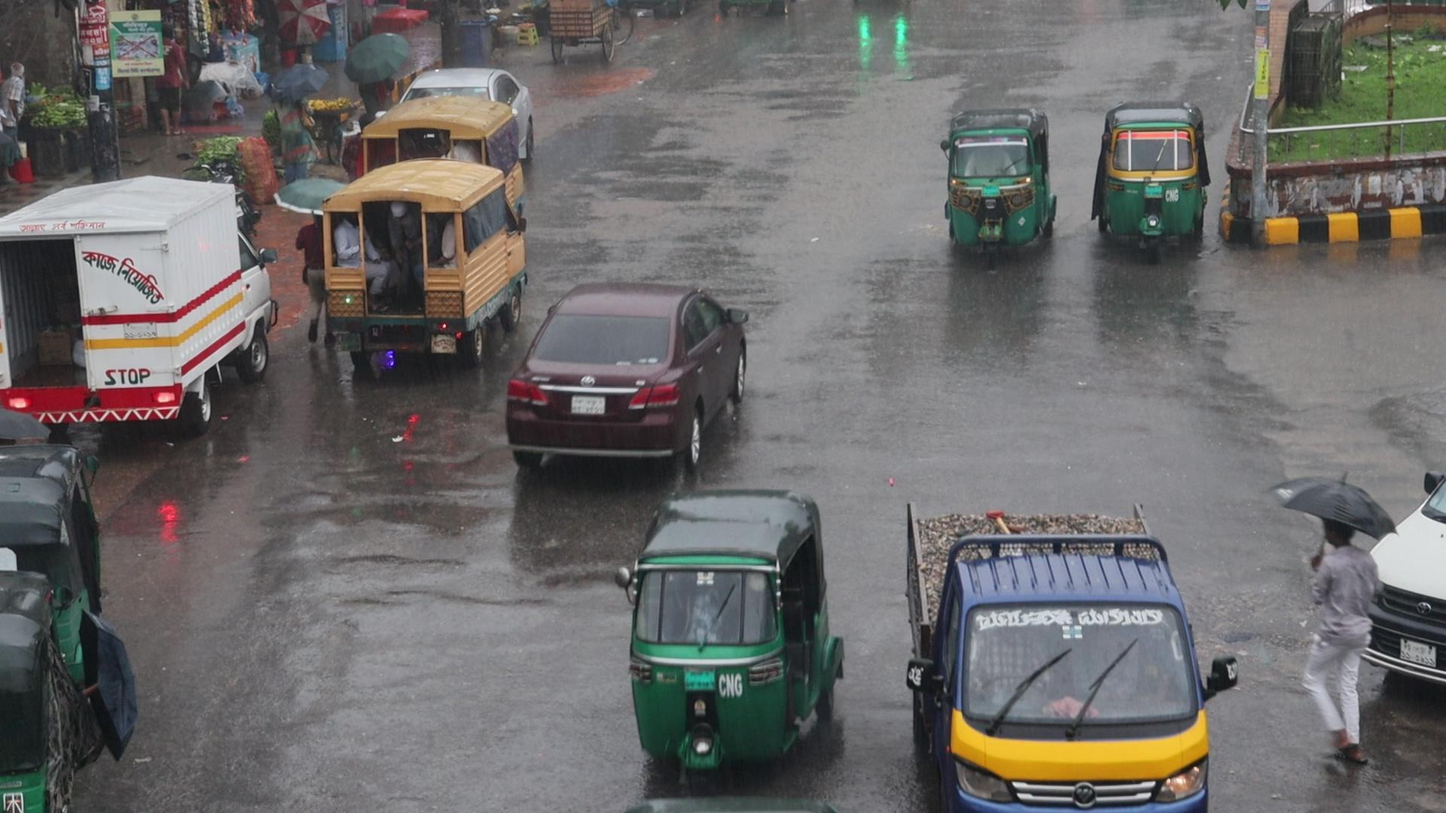Car: (503, 279, 749, 472)
Truck: (899, 498, 1229, 813), (320, 157, 528, 361)
